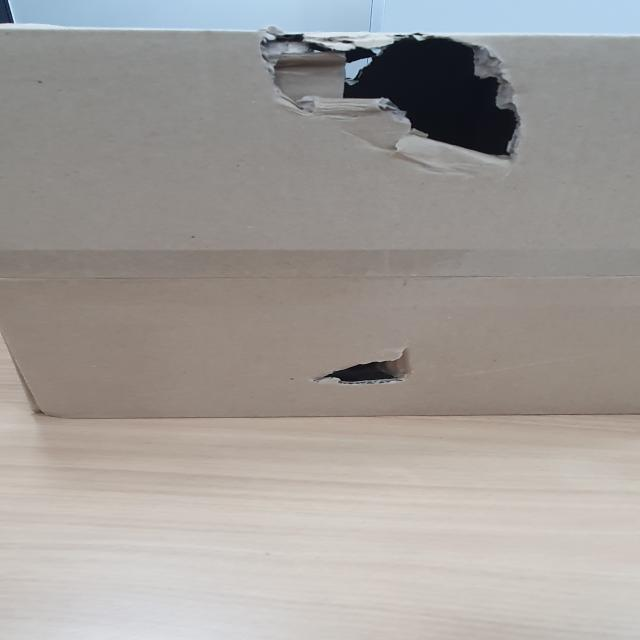hole: (258, 27, 538, 169), (295, 341, 428, 395)
